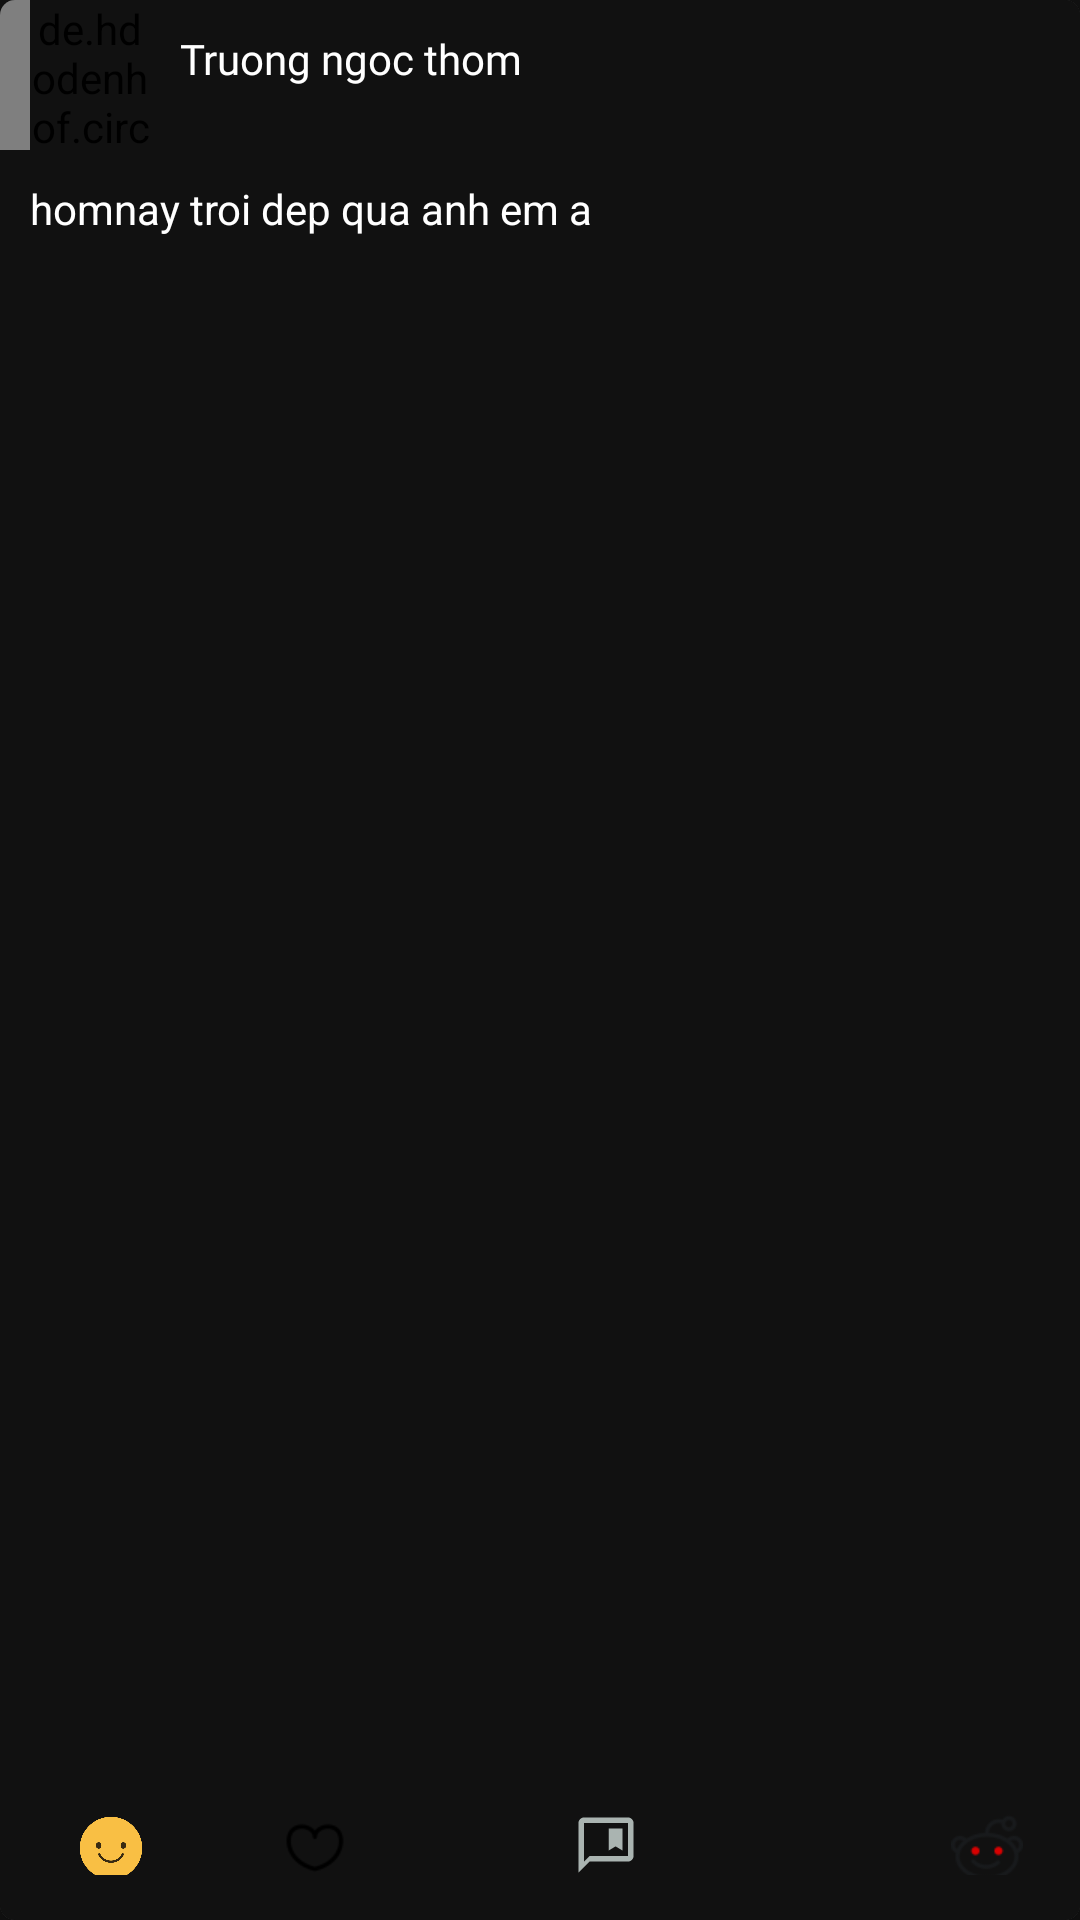

Screen size 1080 × 1920. Icon name, then its center in pixels as (x=x, y=y):
comment: (x=606, y=1845)
